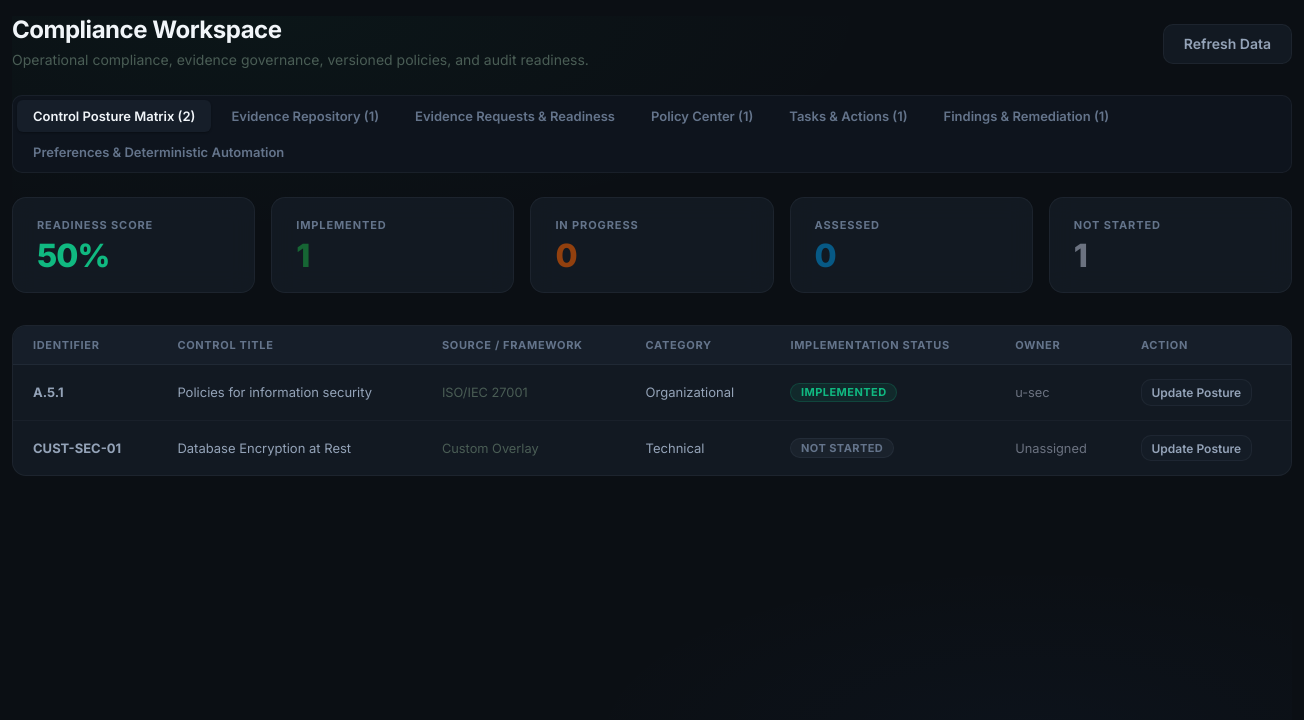
ComplianceWorkspace › switches to Deterministic Automation and executes checks
The width and height of the screenshot is (1304, 720).
Click the tab "Preferences & Deterministic Automation" at [159, 152], box [17,136,300,168]
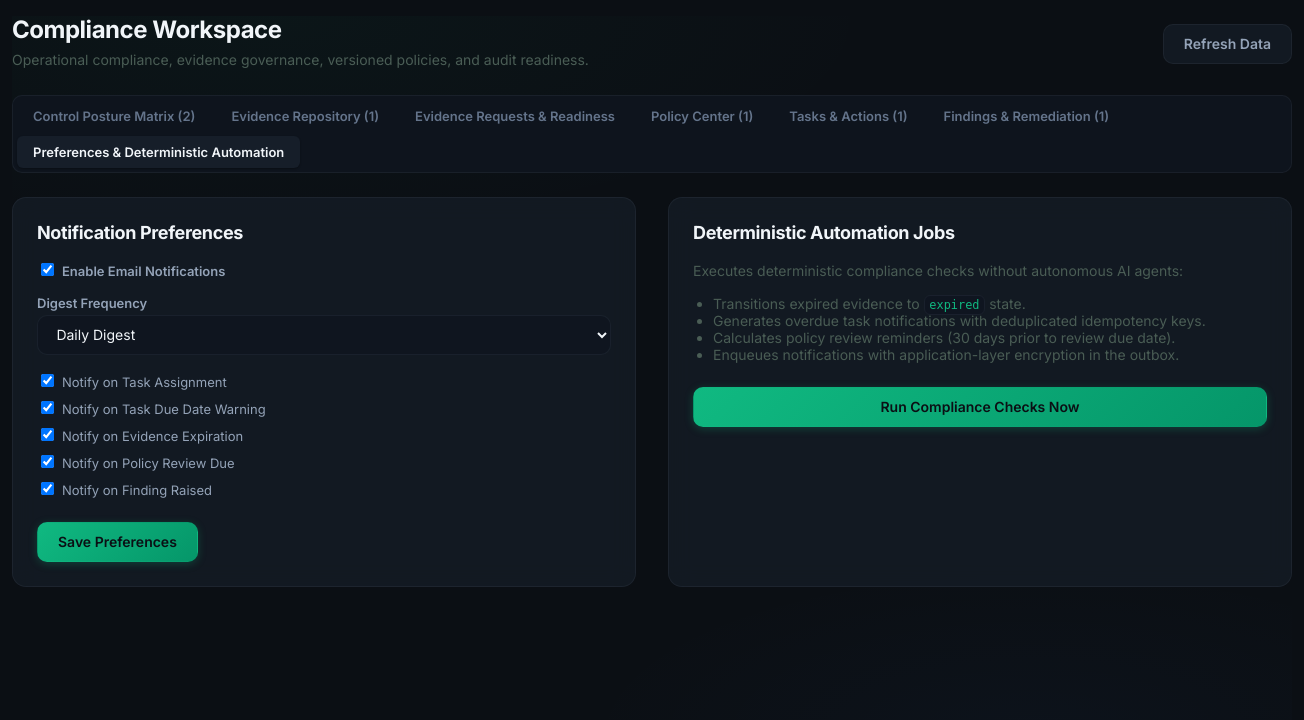
Check: the heading "Deterministic Automation Jobs" is shown, box [693,222,955,243]
Click the button "Run Compliance Checks Now" at [980, 407], box [693,387,1267,427]
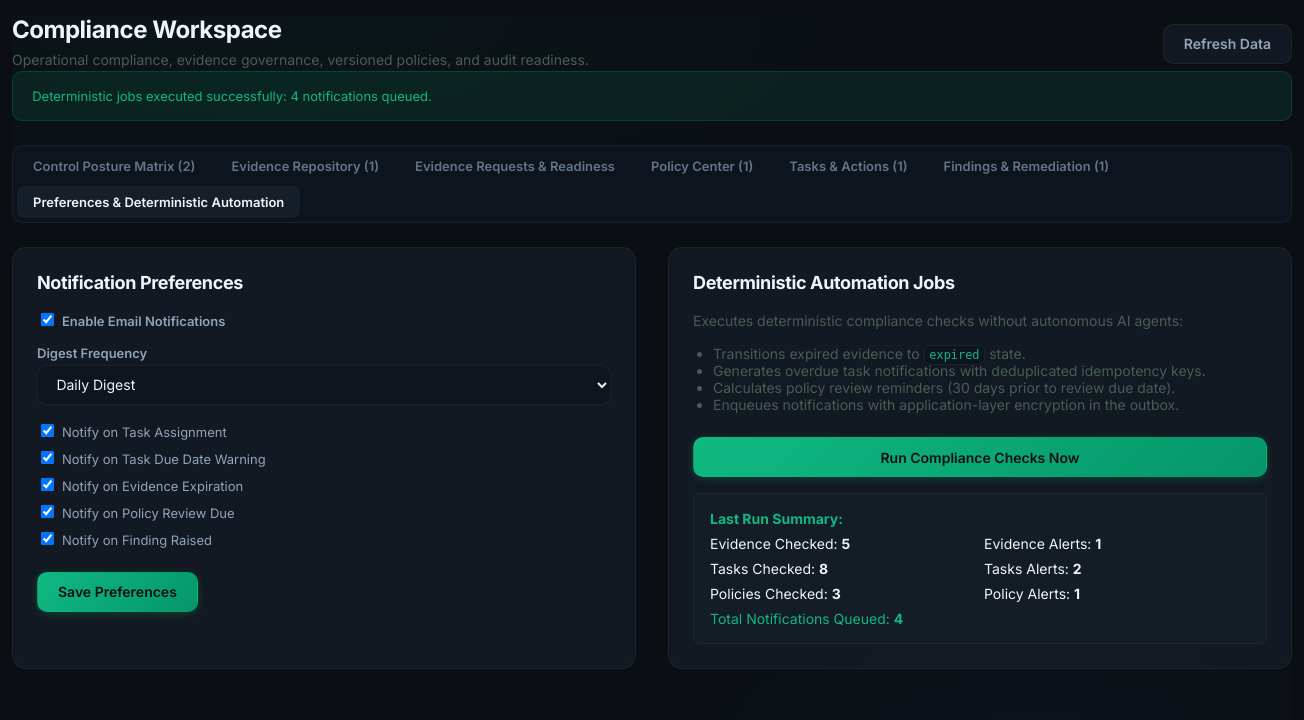
Check: the text "Deterministic jobs executed successfully" is shown, box [32,88,432,104]
Check: the text "Last Run Summary:" is shown, box [710,510,843,527]
Check: the text "Total Notifications Queued:" is shown, box [710,610,890,627]
